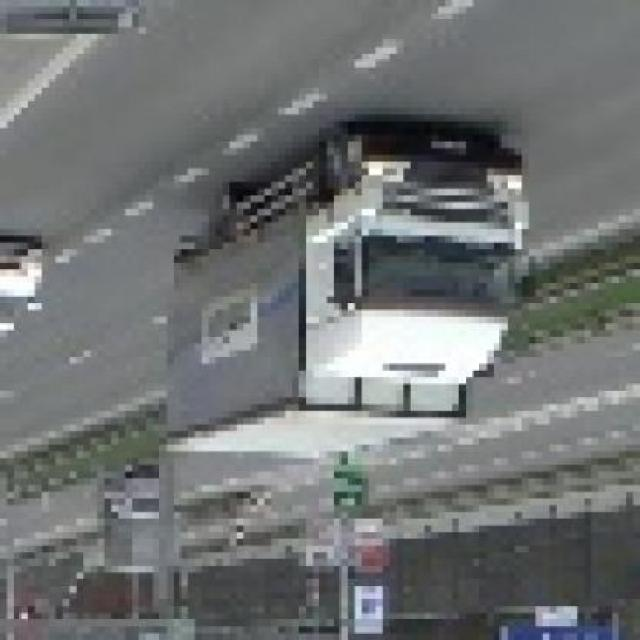truck: (168, 122, 551, 466)
